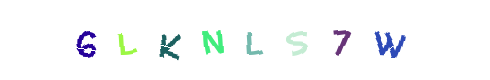6: (46, 0, 126, 80)
7: (229, 0, 309, 80)
K: (173, 0, 253, 80)
L: (84, 0, 164, 80), (205, 0, 285, 80)
N: (199, 0, 279, 80)
S: (217, 0, 297, 80)
W: (323, 0, 403, 80)
